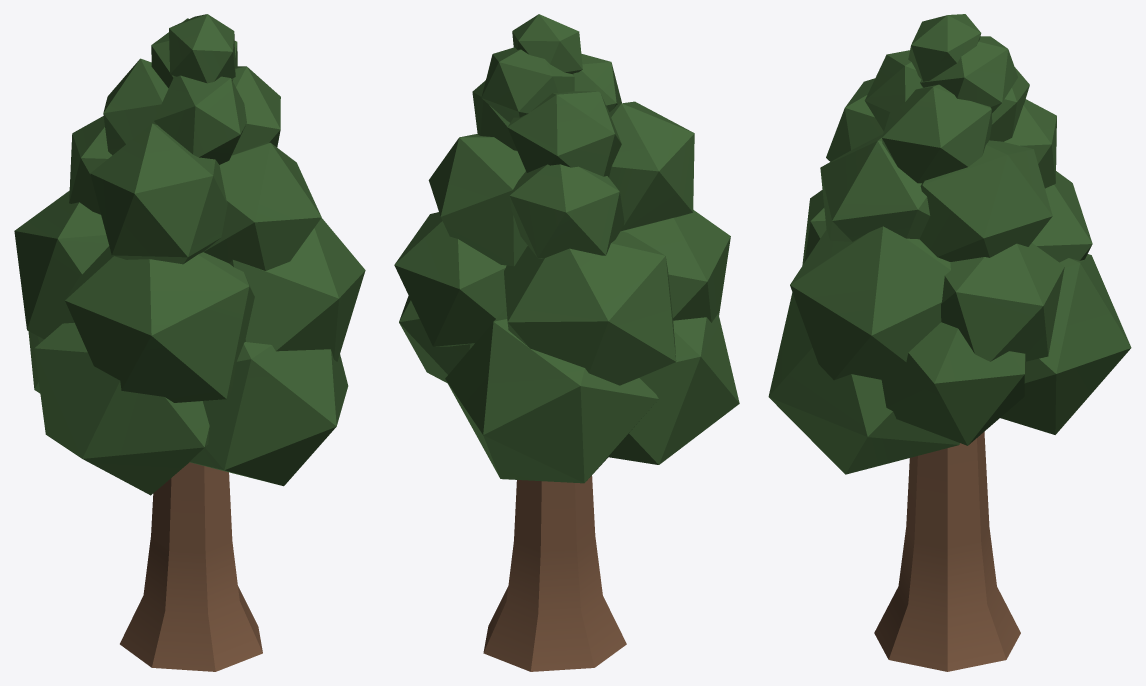
The model's file is Chêne_04.fbx.
3 renders of one model, left to right at view 1: azimuth 30°, elevation 25°; view 2: azimuth 150°, elevation 25°; view 3: azimuth 270°, elevation 25°, orthographic.
Visible parts, largest first — view 1: Chêne_04; view 2: Chêne_04; view 3: Chêne_04.
Boxes of the visible parts, left/top/right/bottom form: Chêne_04: left=14, top=14, right=365, bottom=671; Chêne_04: left=394, top=14, right=739, bottom=671; Chêne_04: left=768, top=14, right=1131, bottom=671.
Bounding box in the file's own units: 253 × 507 × 264.
Materials: 1 (1 with a texture image).
